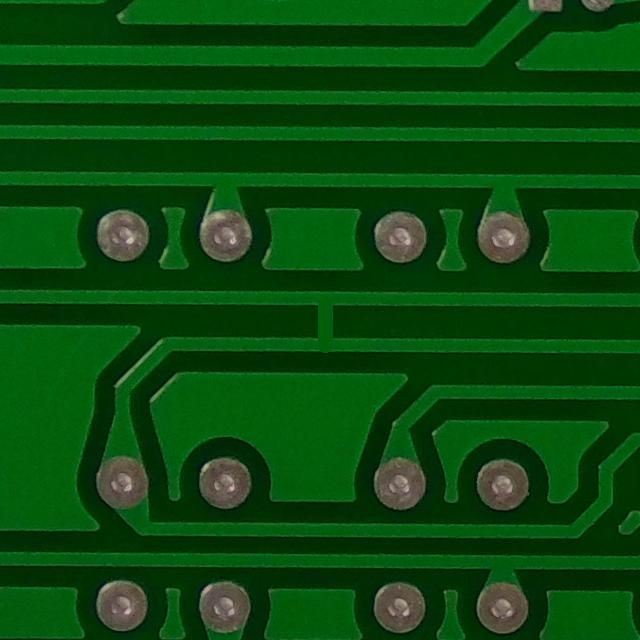short: (297, 280, 344, 360)
